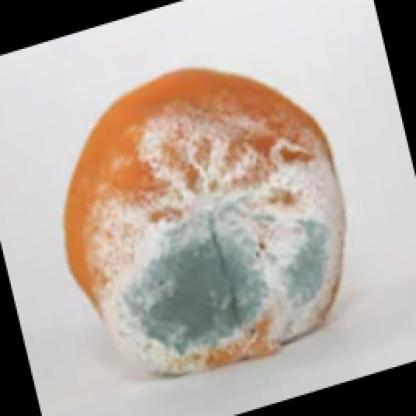rotten: (68, 69, 343, 373)
